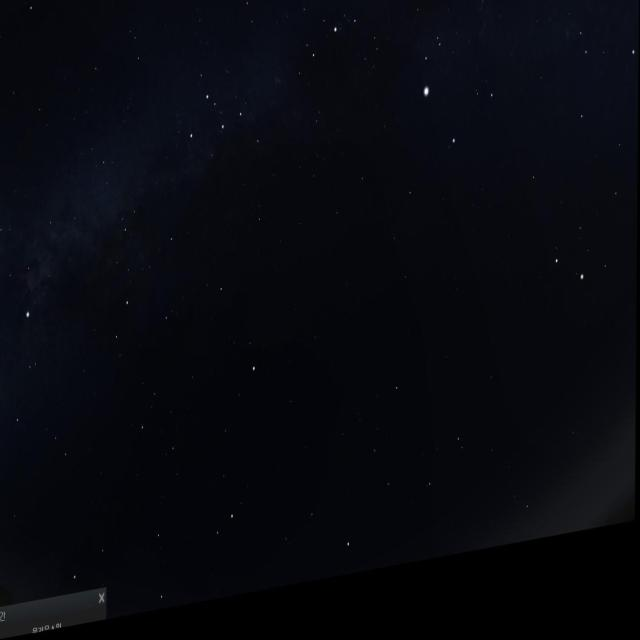cassiopeia: (190, 74, 261, 192)
